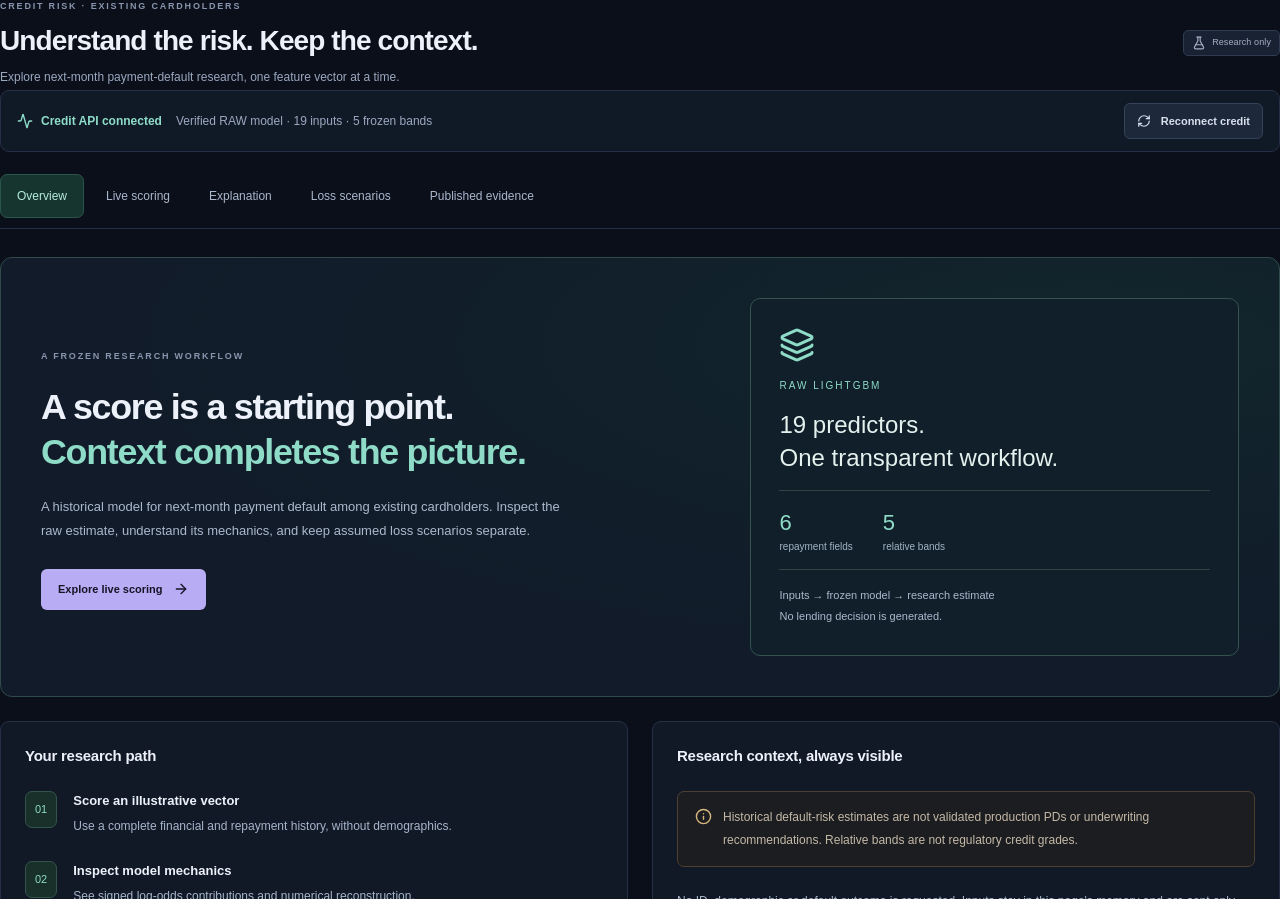
it: credit research workspace › rejects network failure without echoing its content
Check: the text "Credit API connected" is shown, box [17,112,162,130]
Click the tab "Live scoring": (138, 196) [89,174,187,218]
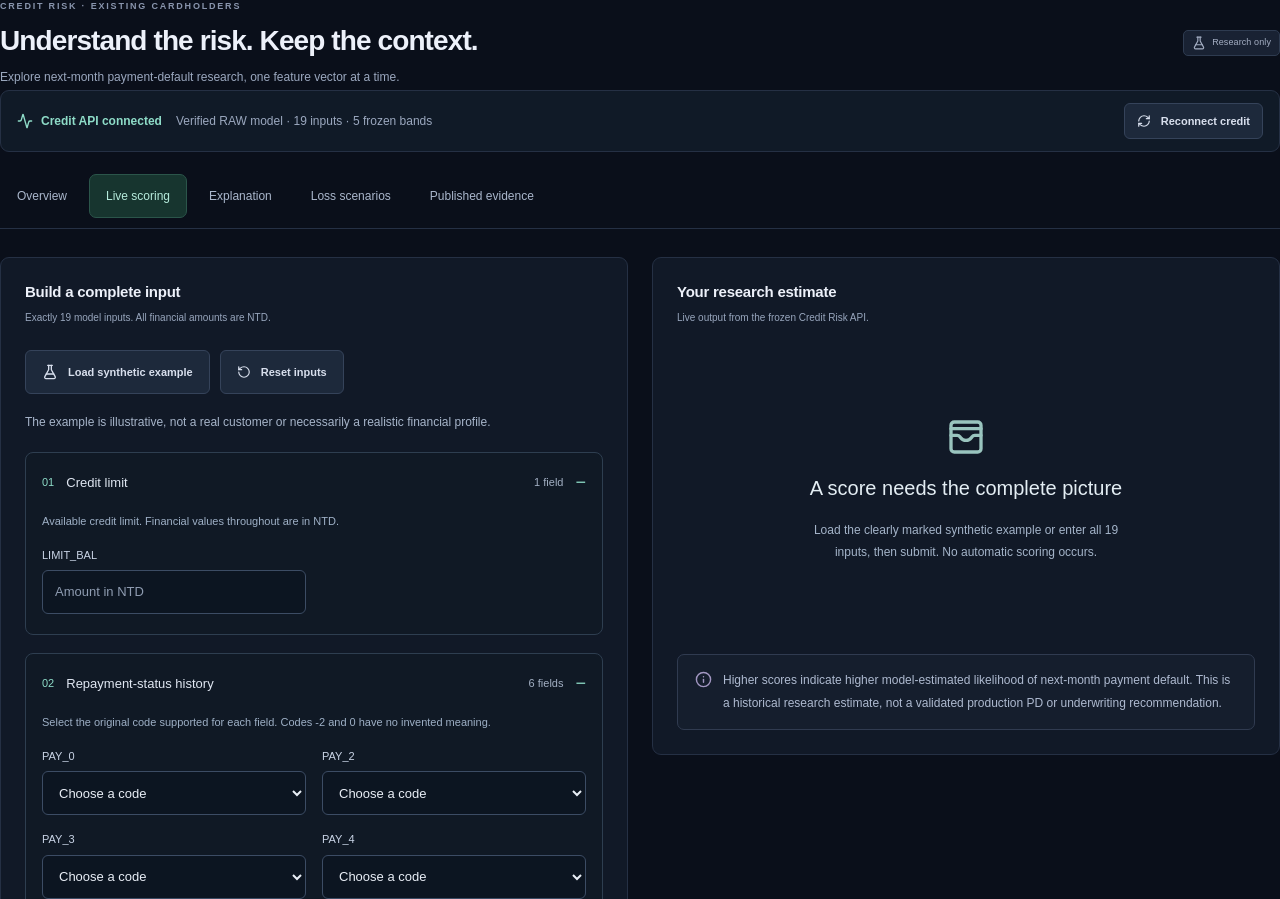
Click the button "Load synthetic example": (117, 372) [25,350,210,394]
(page scrolled)
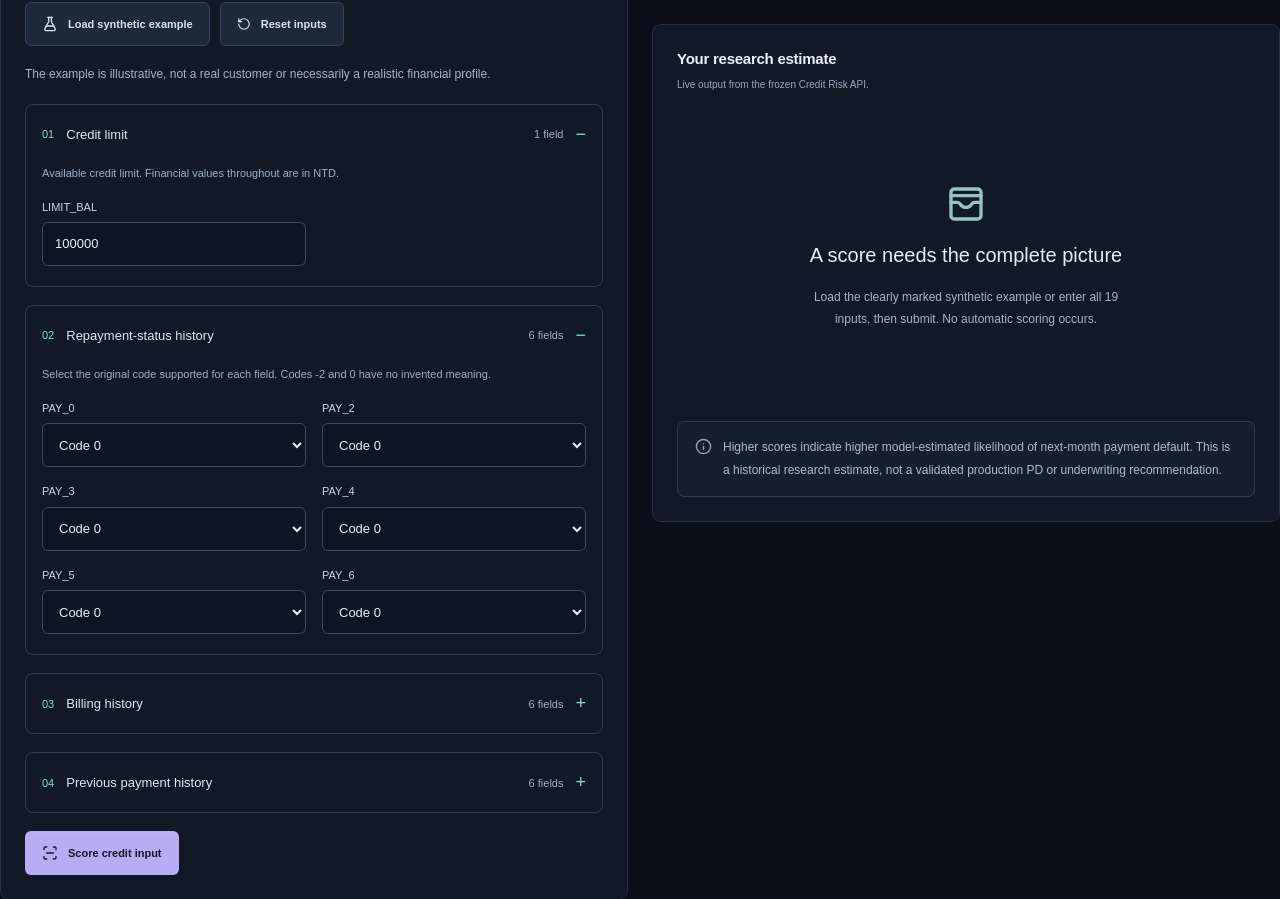
Click the button "Score credit input": (102, 853) [25,831,178,875]
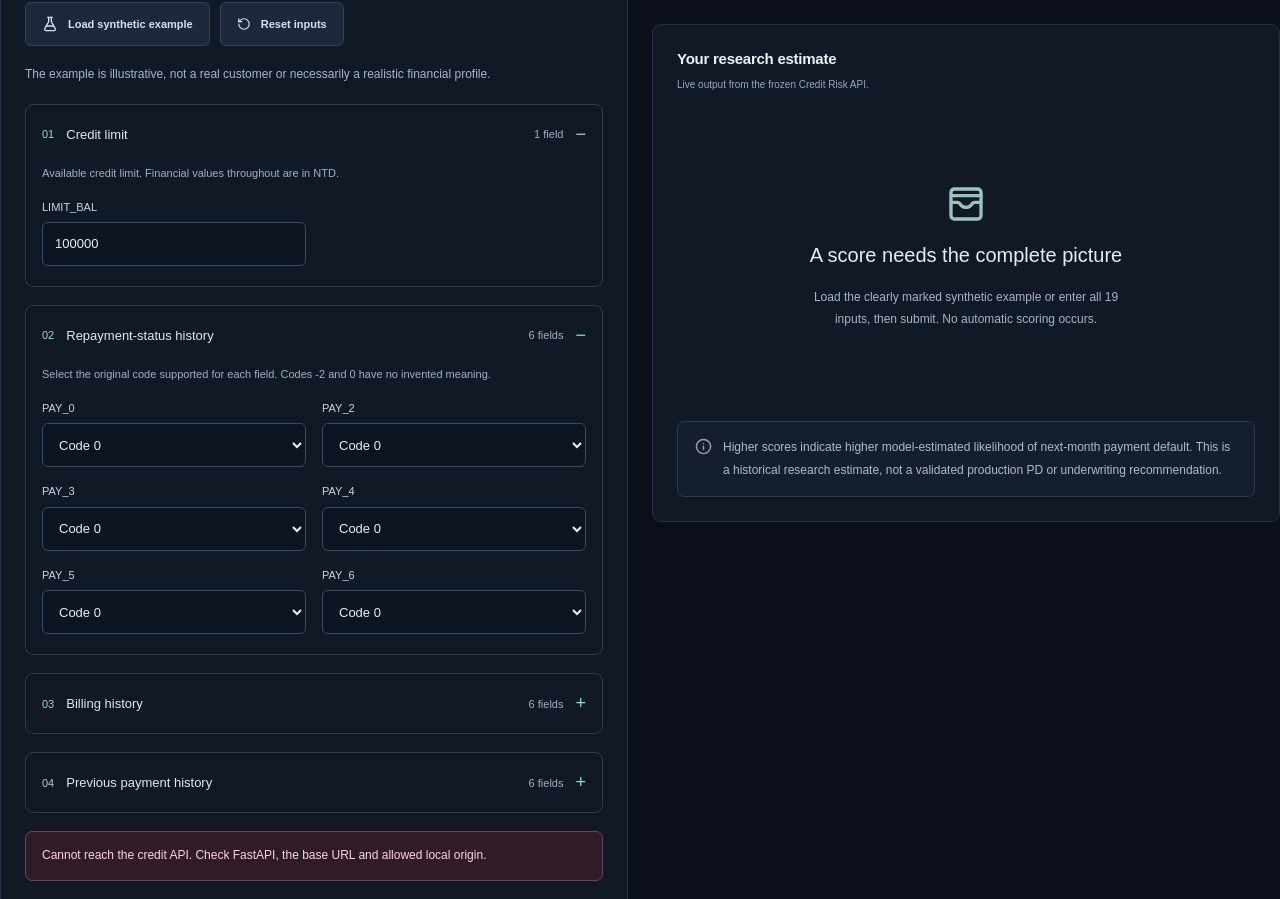
Check: the message shows "Cannot reach the credit API", box [42,848,486,862]
